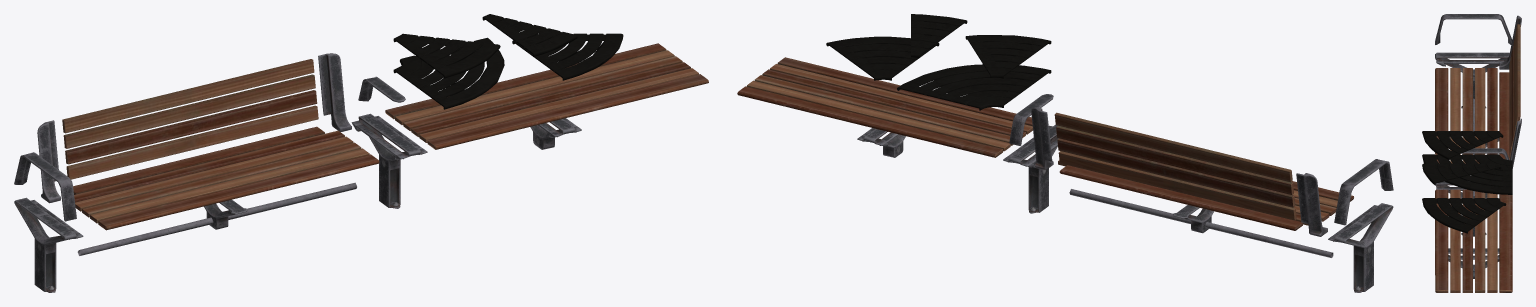
Rendered from modular_street_seating.glb.
The picture shows the model from 3 angles, left to right: view 1: azimuth 30°, elevation 25°; view 2: azimuth 150°, elevation 25°; view 3: azimuth 270°, elevation 25°; orthographic projection. The views are drawn at different scales.
Parts seen in each view (by area): view 1: seat_back, seat, seat_bench, connector_90, legs_double, connector_45, legs_single, connector_60, crossbar, connector_30, back_support_l, arm_rest_01 (+4 smaller); view 2: seat_bench, seat_back, connector_90, seat, connector_60, legs_single, connector_45, legs_double, crossbar, connector_30, arm_rest_01, back_support_r (+4 smaller); view 3: seat_bench, seat, connector_90, connector_60, connector_45, seat_back, connector_30, legs_single, arm_rest_01, arm_rest_02, back_support_r, legs_double (+3 smaller).
Boxes of the visible parts, box(x1,y1,x2,y2) form: seat_back: box(62, 59, 318, 179); seat: box(73, 126, 379, 230); seat_bench: box(385, 43, 708, 149); connector_90: box(393, 37, 504, 109); legs_double: box(351, 113, 427, 208); connector_45: box(393, 33, 500, 78); legs_single: box(14, 197, 83, 292); connector_60: box(512, 33, 623, 80); crossbar: box(77, 182, 356, 255); connector_30: box(482, 14, 577, 56); back_support_l: box(318, 53, 351, 131); arm_rest_01: box(14, 152, 76, 221); seat_bench: box(737, 57, 1032, 157); seat_back: box(1054, 112, 1296, 220); connector_90: box(897, 64, 1051, 110); seat: box(1058, 160, 1353, 230); connector_60: box(826, 36, 939, 80); legs_single: box(1328, 203, 1393, 292); connector_45: box(965, 35, 1051, 78); legs_double: box(1003, 125, 1058, 213); crossbar: box(1069, 189, 1333, 257); connector_30: box(911, 14, 967, 58); arm_rest_01: box(1334, 159, 1393, 225); back_support_r: box(1296, 173, 1327, 236); seat_bench: box(1435, 189, 1512, 292); seat: box(1435, 68, 1509, 163); connector_90: box(1422, 154, 1512, 194); connector_60: box(1422, 198, 1506, 233); connector_45: box(1422, 131, 1503, 160); seat_back: box(1509, 24, 1520, 157); connector_30: box(1422, 163, 1501, 185); legs_single: box(1435, 52, 1509, 108); arm_rest_01: box(1435, 14, 1512, 44); arm_rest_02: box(1462, 148, 1509, 160); back_support_r: box(1499, 15, 1521, 69); legs_double: box(1435, 181, 1487, 236).
Size of the model in its own units: 4.34 by 0.95 by 0.7704.
Materials: 4 (4 with a texture image).
